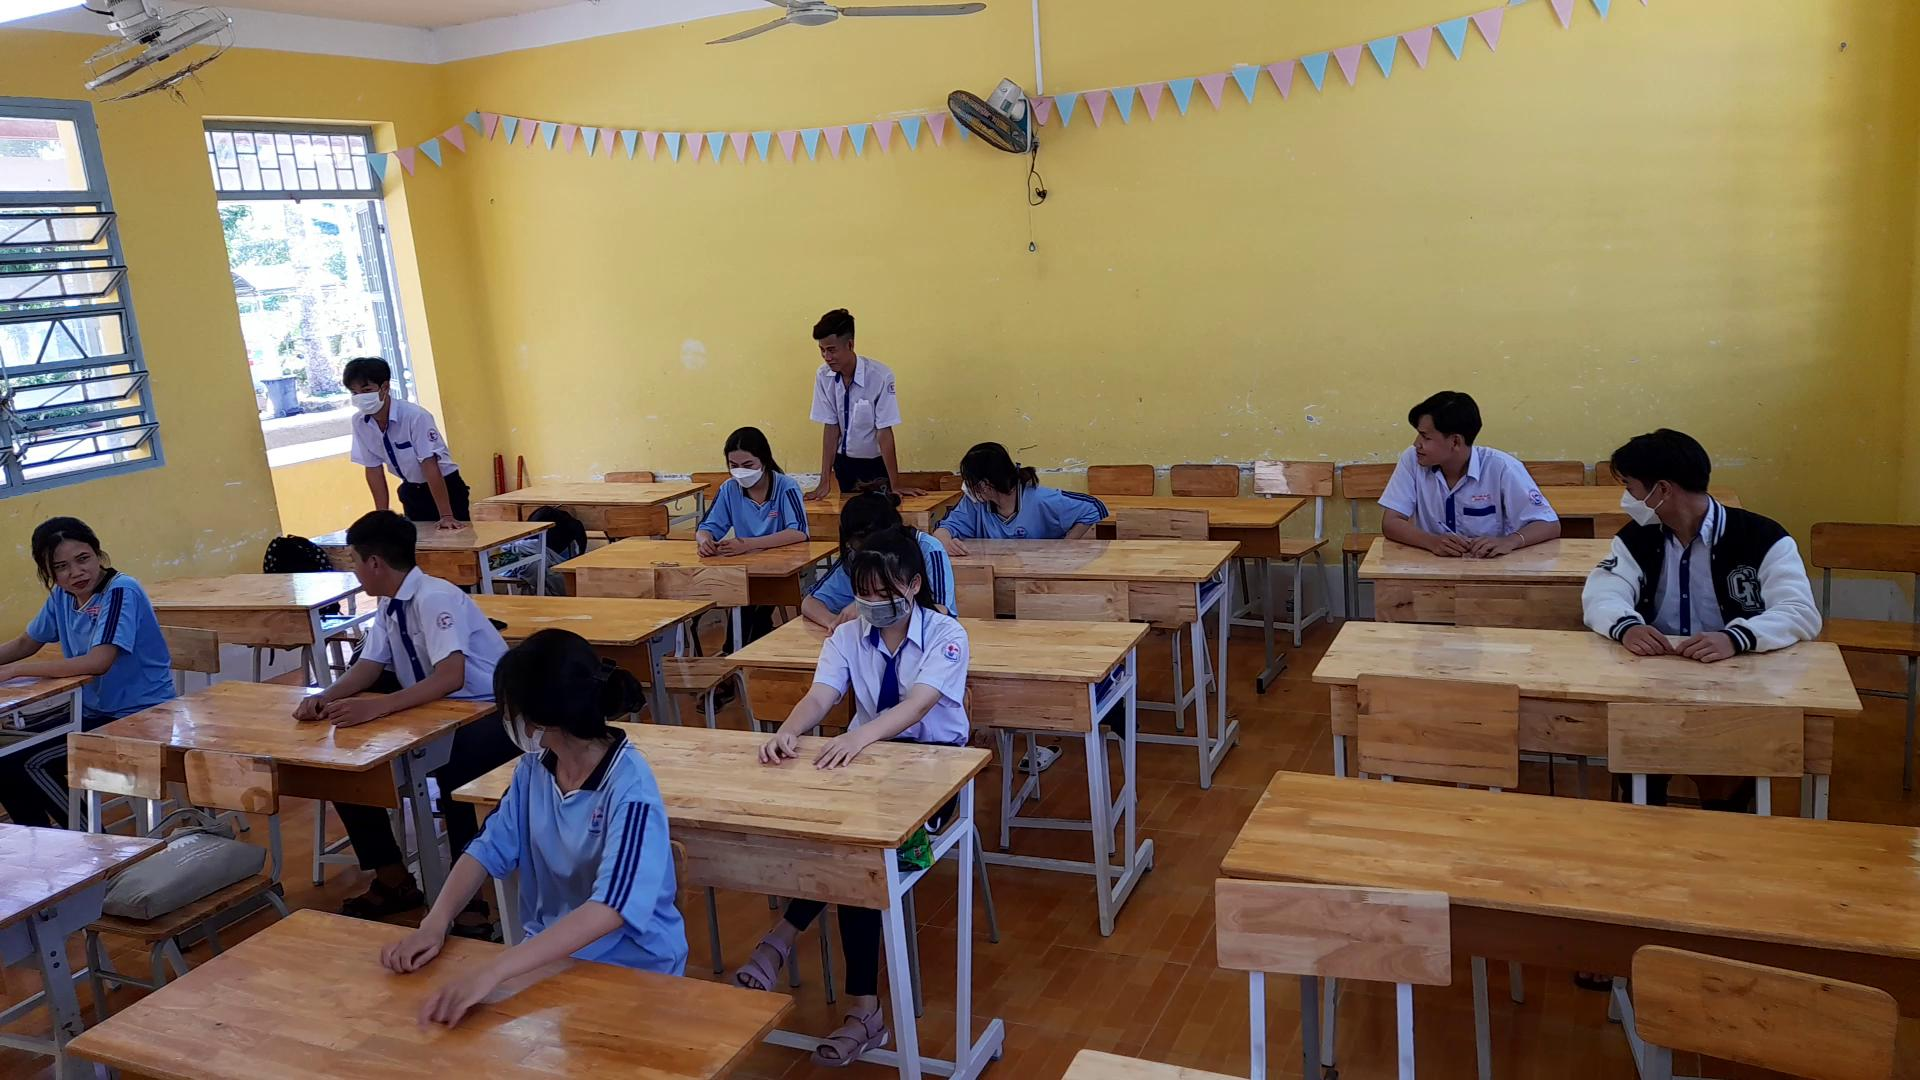Look Around: (465, 615, 647, 758), (1598, 425, 1716, 539), (318, 502, 429, 604), (16, 506, 125, 608), (1390, 380, 1499, 481), (943, 421, 1044, 508)
Normal: (756, 529, 978, 764), (661, 414, 810, 554)
Stand Up: (320, 345, 468, 516), (793, 297, 903, 492)
